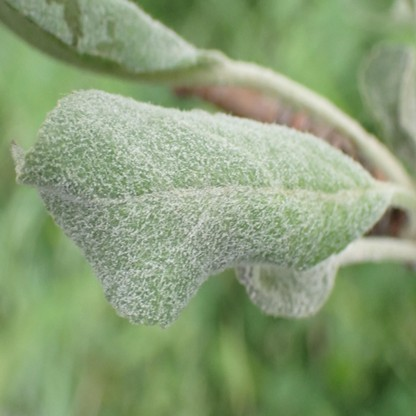powdery_mildew: (11, 87, 386, 327), (7, 0, 204, 72), (236, 256, 337, 315)
